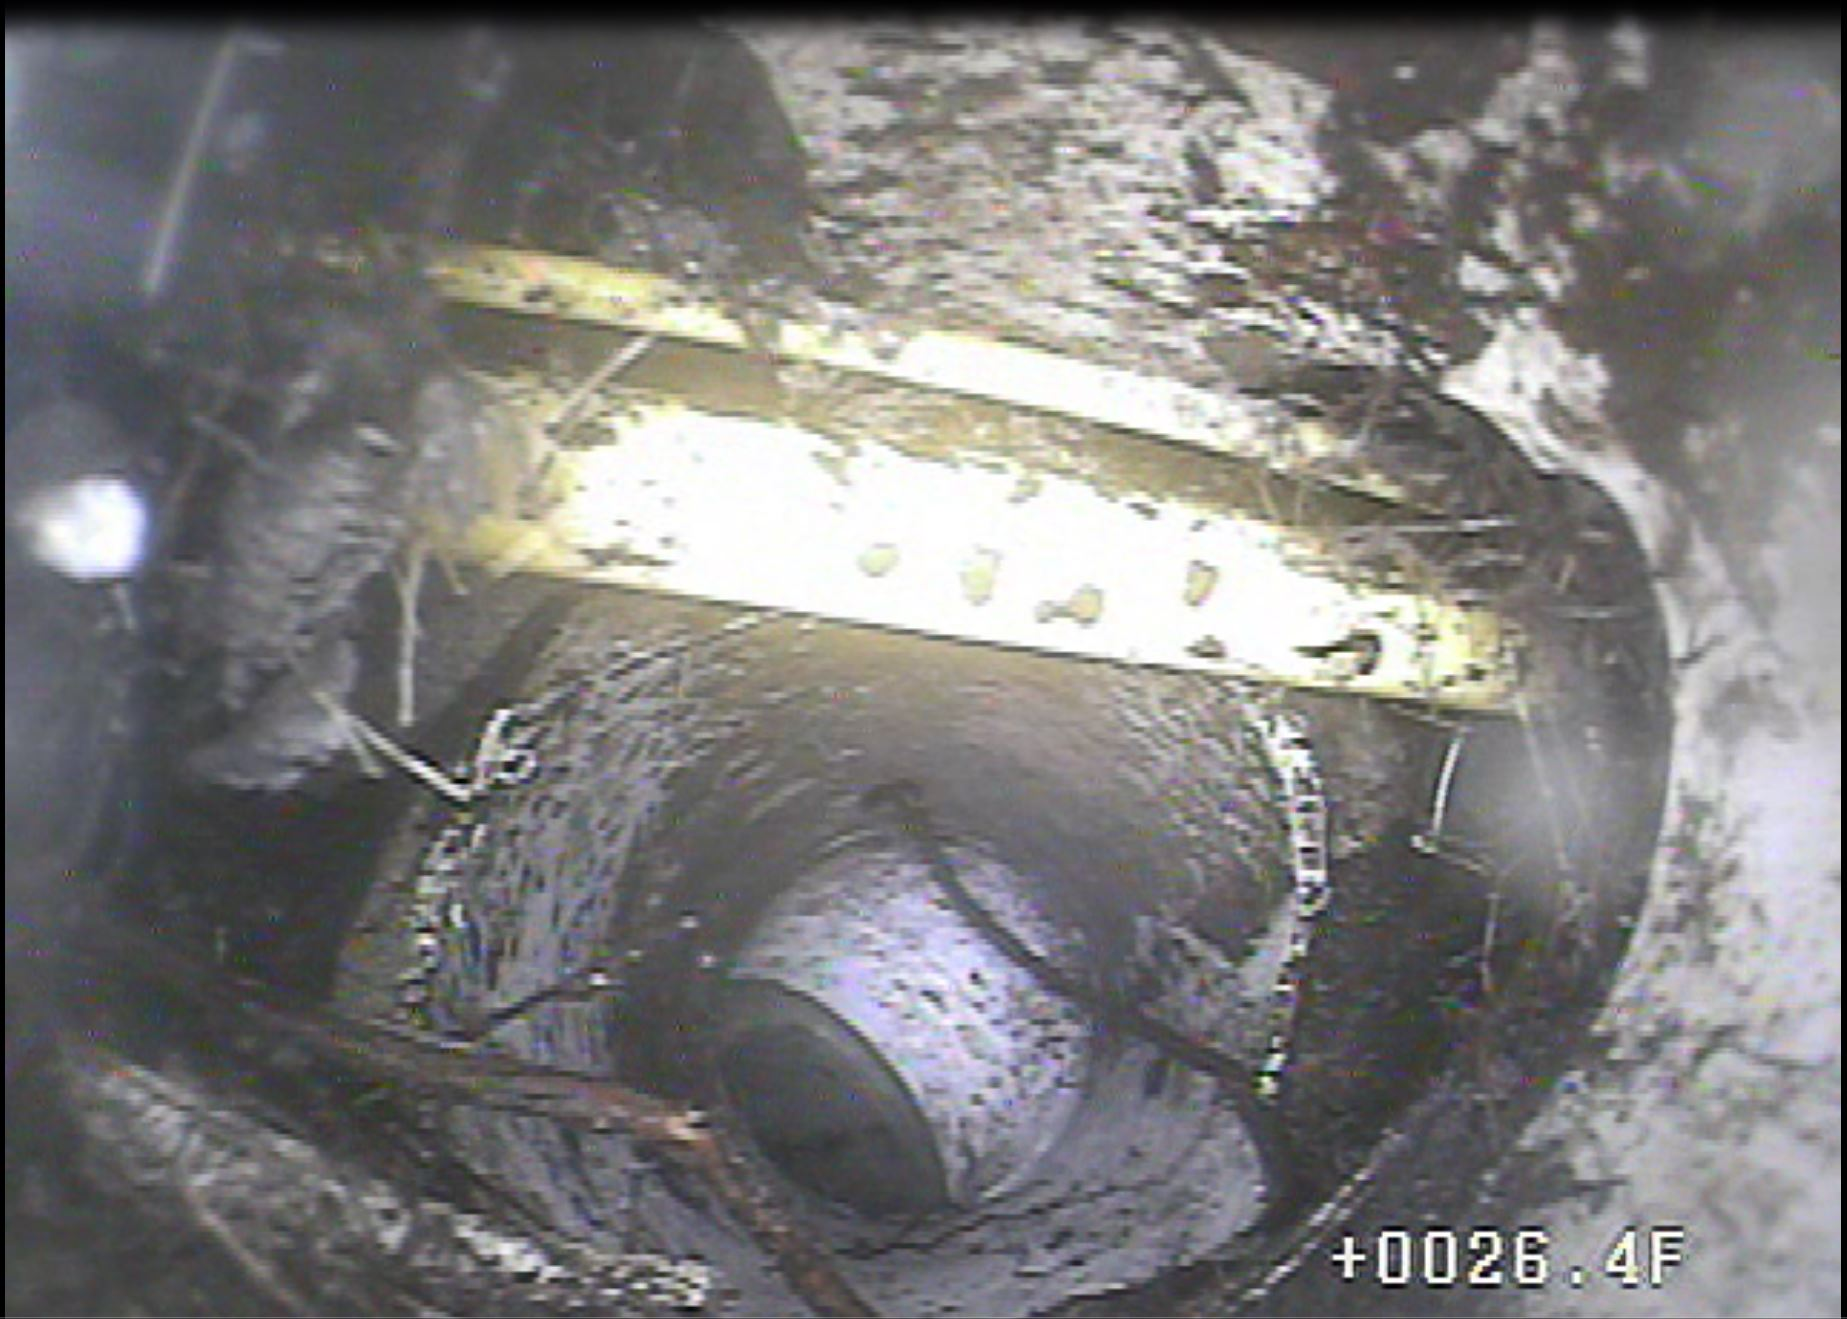cb: (231, 365, 1646, 742), (177, 166, 1592, 535)
